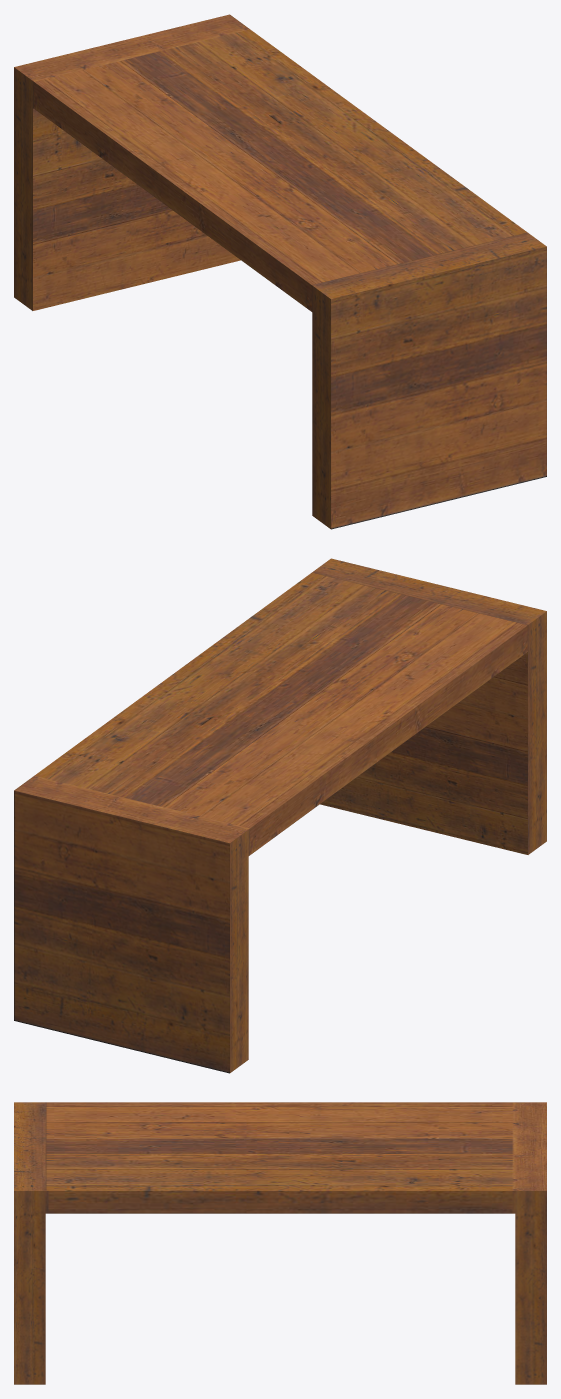
Rendered from bench.dae.
3 views of the same model, one above another, from view 1: azimuth 30°, elevation 25°; view 2: azimuth 150°, elevation 25°; view 3: azimuth 270°, elevation 25° (orthographic). The views are drawn at different scales.
Parts seen in each view (by area): view 1: Cube; view 2: Cube; view 3: Cube.
Boxes of the visible parts, left/top/right/bottom form: Cube: left=14, top=14, right=546, bottom=529; Cube: left=14, top=558, right=546, bottom=1073; Cube: left=14, top=1102, right=546, bottom=1384.
Bounding box in the file's own units: 13.21 × 33.62 × 13.47.
